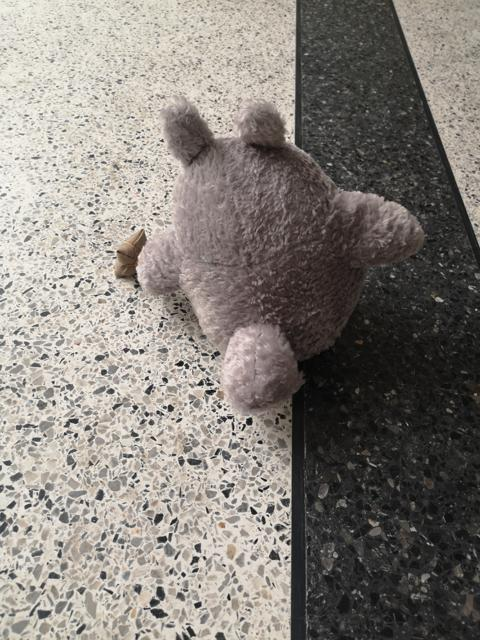totoro: (112, 91, 428, 421)
